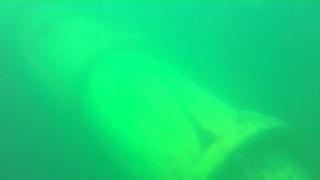pipe: (1, 1, 311, 179)
